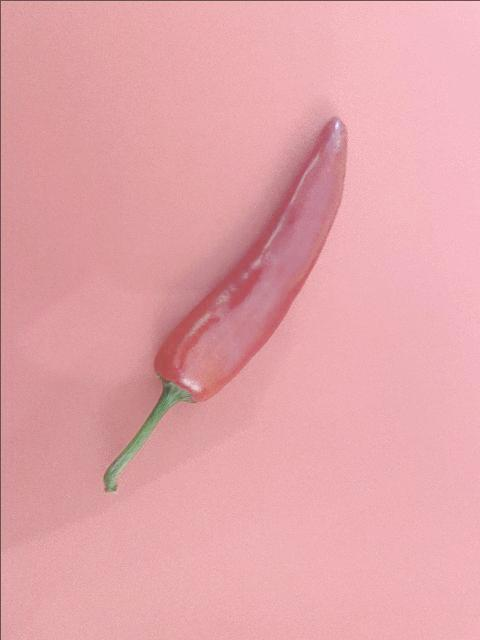chilli: (100, 113, 350, 497)
